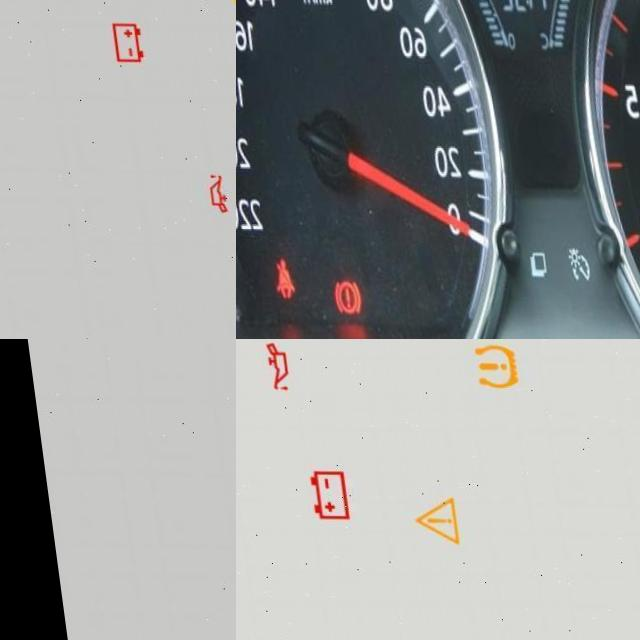Seat Belt: (257, 258, 283, 299)
